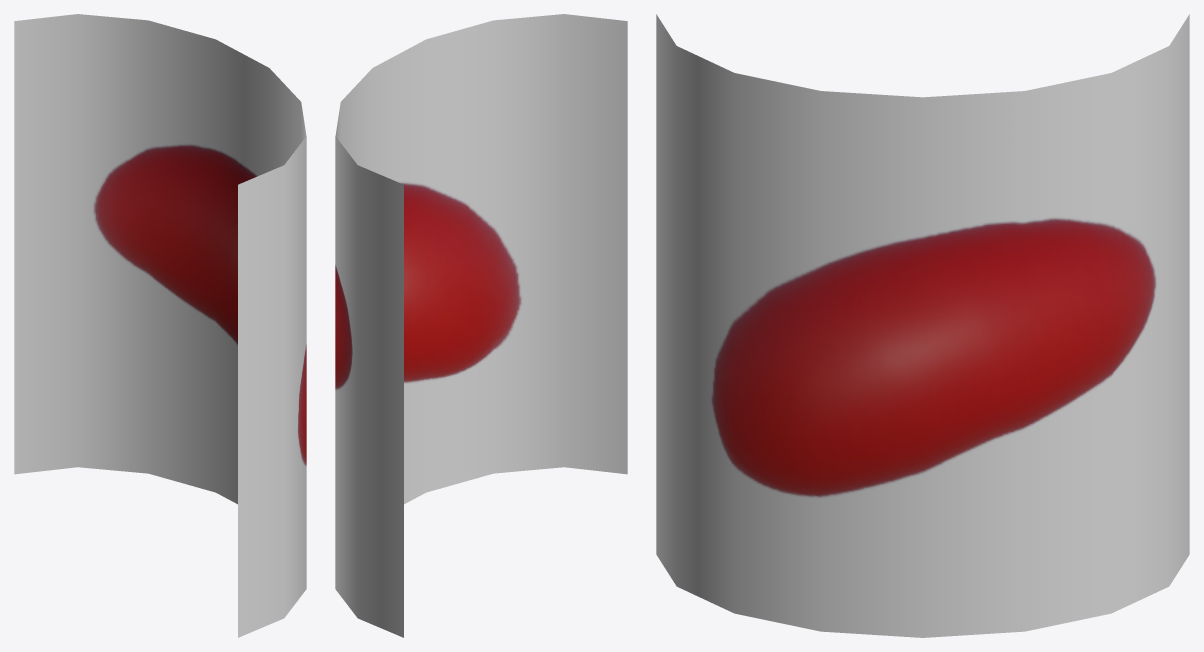
The model's file is jellybean sign.fbx.
3 renders of one model, left to right at view 1: azimuth 30°, elevation 25°; view 2: azimuth 150°, elevation 25°; view 3: azimuth 270°, elevation 25°, orthographic. The views are drawn at different scales.
Visible parts, largest first — view 1: pCylinder8; view 2: pCylinder8; view 3: pCylinder8.
Part boxes in pixels (left/top/right/bottom): pCylinder8: left=14, top=14, right=306, bottom=637; pCylinder8: left=335, top=14, right=627, bottom=637; pCylinder8: left=656, top=14, right=1189, bottom=637.
Bounding box in the file's own units: 1 × 3.03 × 2.7.
1 material, 1 textured.
